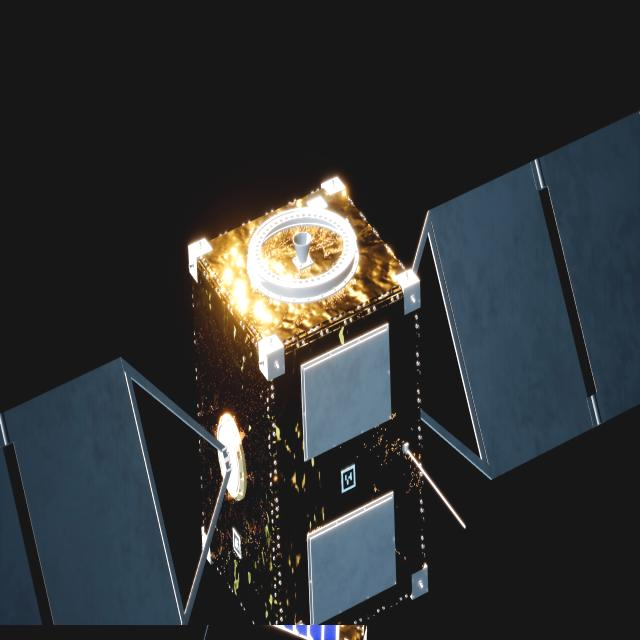medium_debris: (0, 112, 640, 640)
